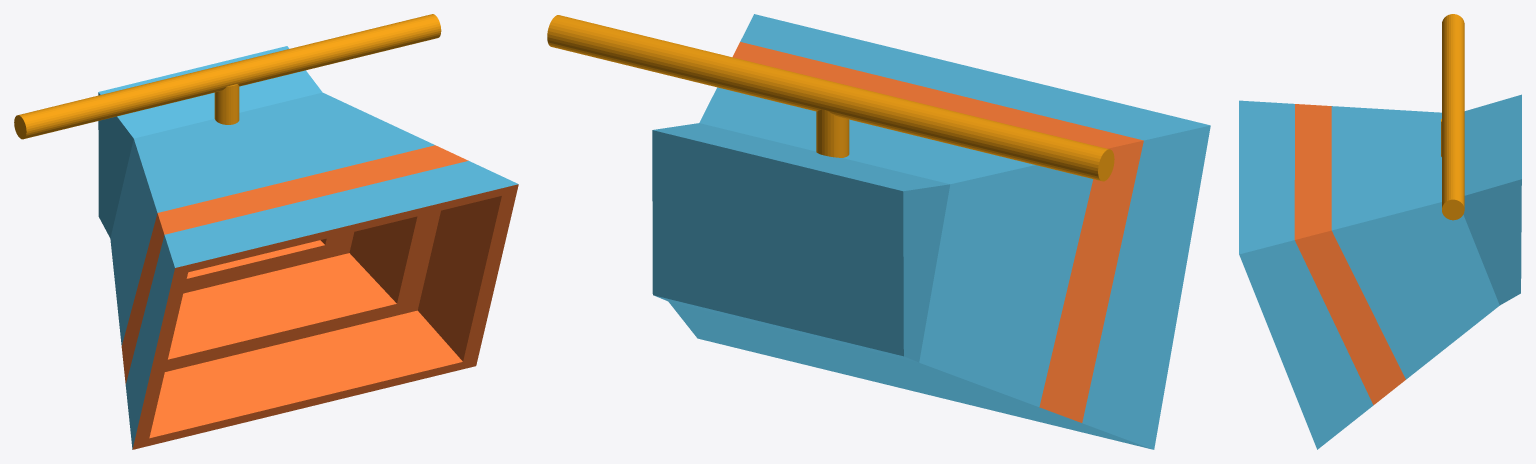
Rendered from vacuum2.fbx.
3 views of the same model, side by side, from view 1: azimuth 30°, elevation 25°; view 2: azimuth 150°, elevation 25°; view 3: azimuth 270°, elevation 25° (orthographic). The views are drawn at different scales.
Parts seen in each view (by area): view 1: Usisivac1.001; view 2: Usisivac1.001; view 3: Usisivac1.001.
Part boxes in pixels (bbox=[...]): Usisivac1.001: bbox=[14, 14, 518, 449]; Usisivac1.001: bbox=[547, 14, 1210, 449]; Usisivac1.001: bbox=[1239, 14, 1521, 449].
Bounding box in the file's own units: 185 × 123 × 119.
